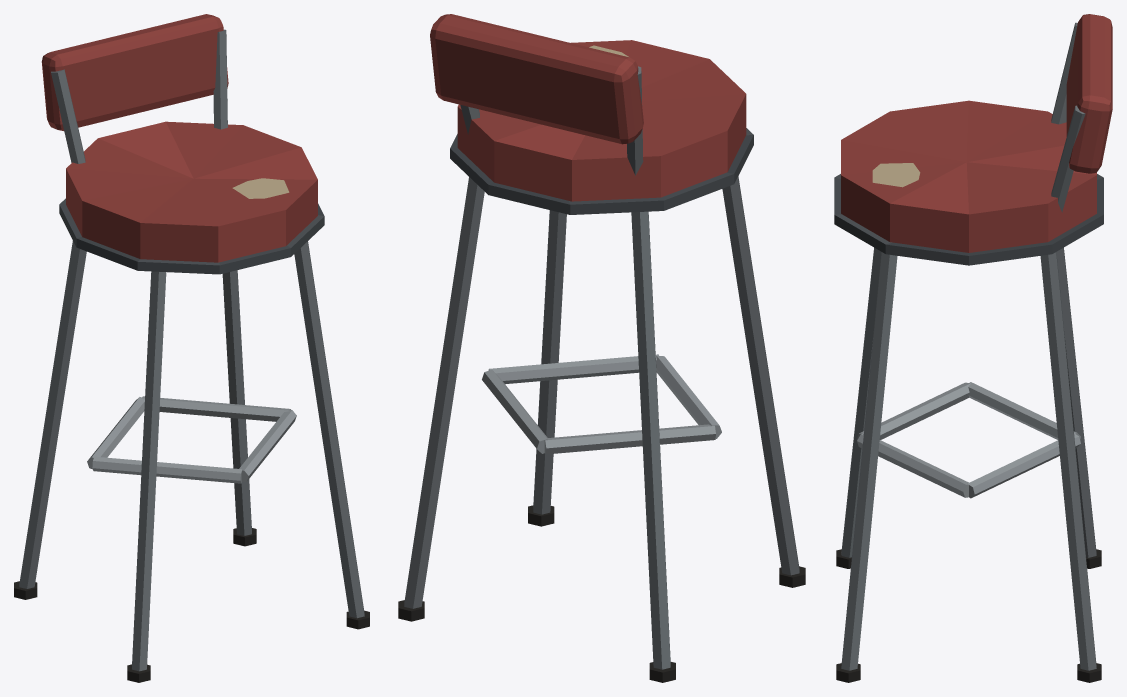
Rendered from chair_wood_barnyy_stul_idle.glb.
3 views of the same model, side by side, from view 1: azimuth 30°, elevation 25°; view 2: azimuth 150°, elevation 25°; view 3: azimuth 270°, elevation 25° (orthographic). The views are drawn at different scales.
Visible parts, largest first — view 1: chair_wood_barnyy_stul_idle; view 2: chair_wood_barnyy_stul_idle; view 3: chair_wood_barnyy_stul_idle.
Part boxes in pixels (box(x1,y1,x2,y2)): chair_wood_barnyy_stul_idle: box(14, 14, 369, 682); chair_wood_barnyy_stul_idle: box(398, 14, 805, 682); chair_wood_barnyy_stul_idle: box(834, 14, 1112, 682).
Size of the model in its own units: 0.42 by 0.8816 by 0.3931.
1 material, 1 textured.
